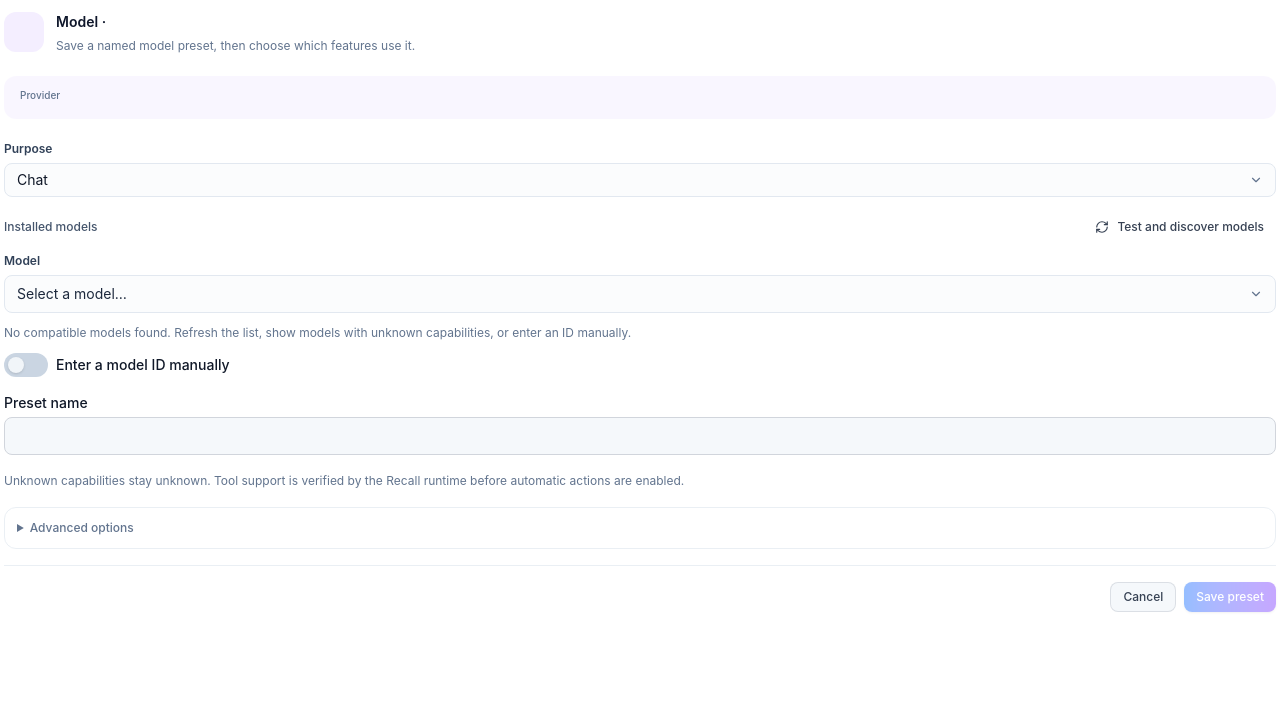
Test: keeps unreported ollama model fallbacks editable while Auto is on
This screenshot has width=1280, height=720.
Click the heading "Advanced options" at (82, 528), box [30,520,134,535]
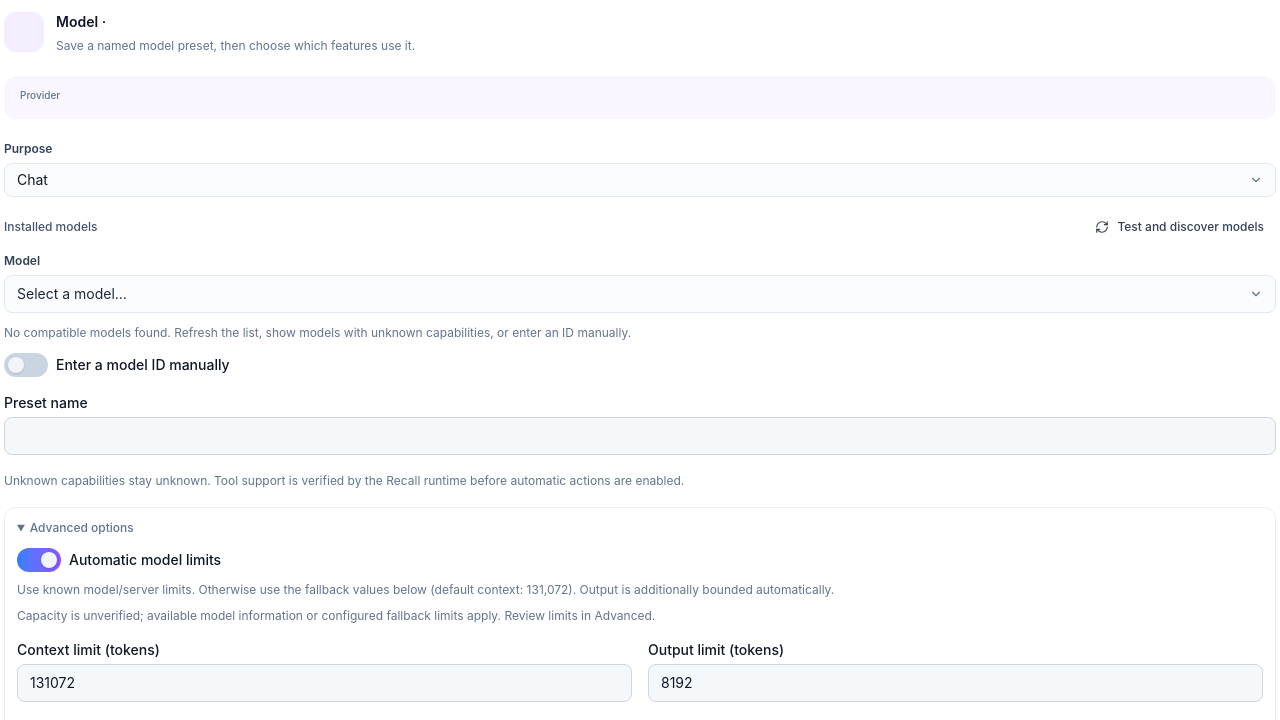
Now the switch named "Automatic model limits" is checked, box [17,548,61,572]
Now the number field labelled "Context limit (tokens)" is enabled, box [17,664,632,702]
Now the number field labelled "Context limit (tokens)" holds "131072", box [17,664,632,702]
